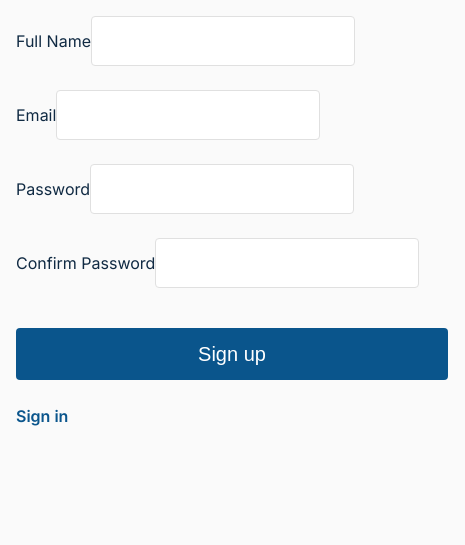
Test: <SignUpForm /> › displays validation errors if required fields are not entered
# Submit form without entering anything
Click the button "Sign up" at (232, 354), box [16,328,448,380]
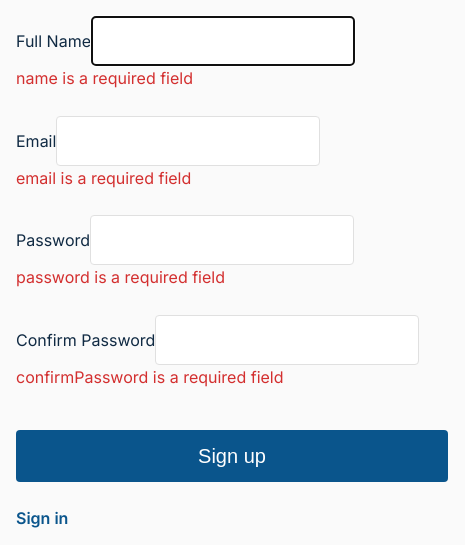
Check: the text "name is a required field" is shown, box [16,68,193,88]
Check: the text "email is a required field" is shown, box [16,168,191,188]
Check: the text "password is a required field" is shown, box [16,267,225,287]
